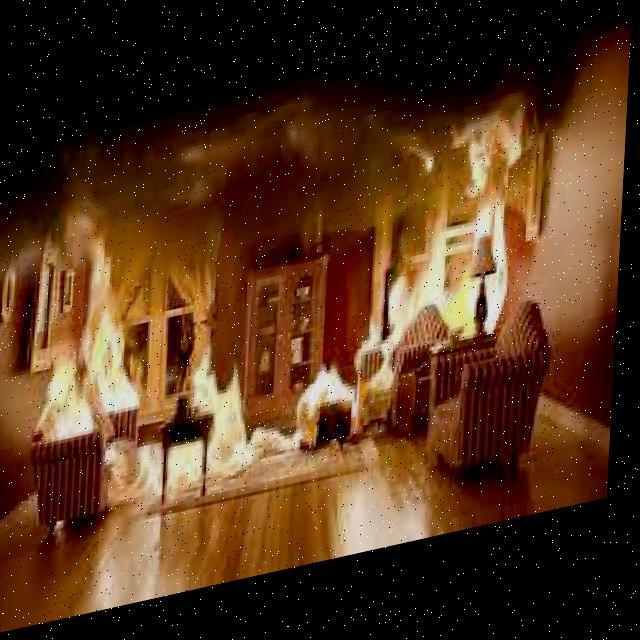Fire: (33, 92, 520, 509)
